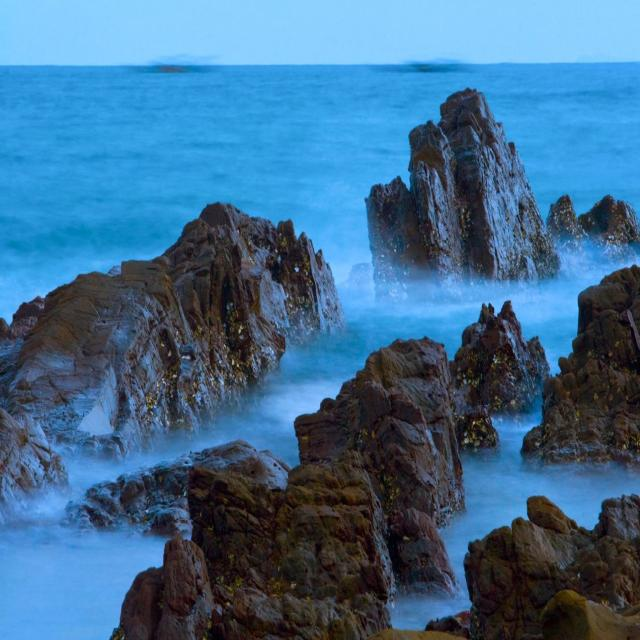reef: (364, 312, 640, 608), (46, 207, 334, 454), (367, 128, 640, 278)
